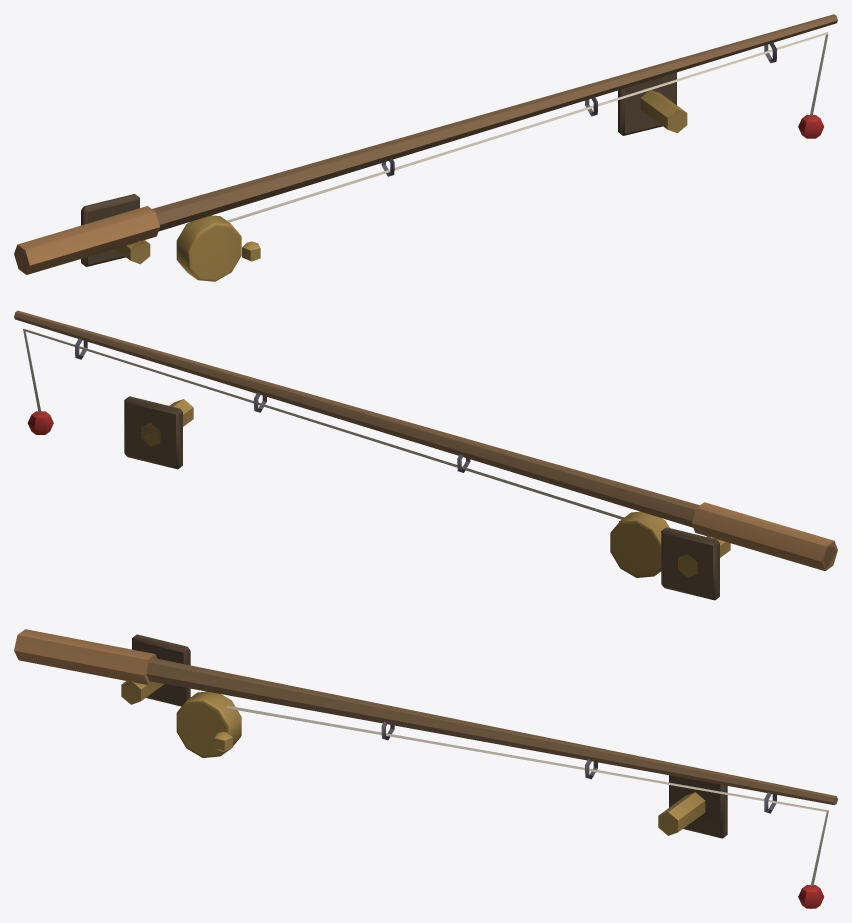
File: rod_cypress.glb
The picture shows the model from 3 angles, top to bottom: view 1: azimuth 30°, elevation 25°; view 2: azimuth 150°, elevation 25°; view 3: azimuth 330°, elevation 25°; orthographic projection.
Visible parts, largest first — view 1: rod_cypress; view 2: rod_cypress; view 3: rod_cypress.
Part boxes in pixels (box(x1,y1,x2,y2)): rod_cypress: box(14, 14, 837, 281); rod_cypress: box(14, 310, 837, 600); rod_cypress: box(14, 629, 837, 908).
Bounding box in the file's own units: 1 × 0.1383 × 0.0984.
